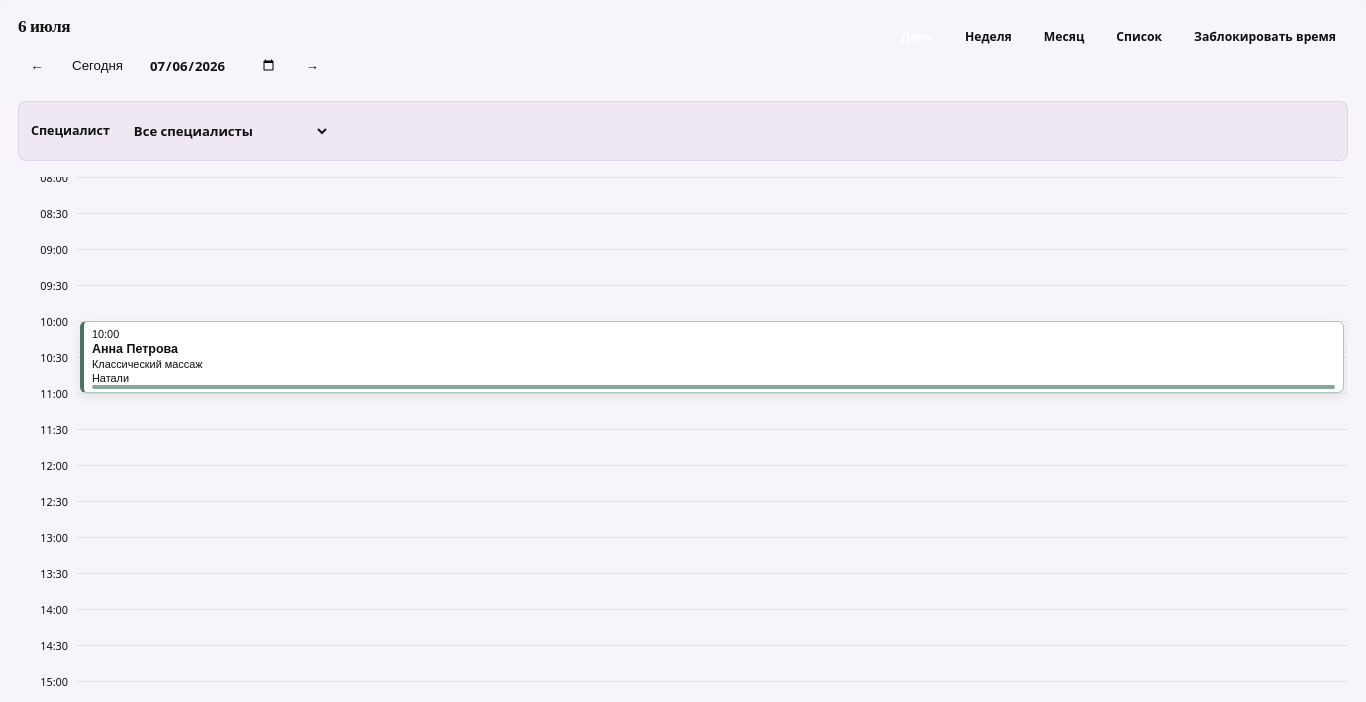
Test: CalendarWorkspace › keeps capacity totals based on all appointments while search filters the display
The image size is (1366, 702).
(page scrolled)
Expected: the text "Анна Петрова" is shown, [92,342,178,356]
Click the button "Месяц": (1064,36) [1032,18,1096,54]
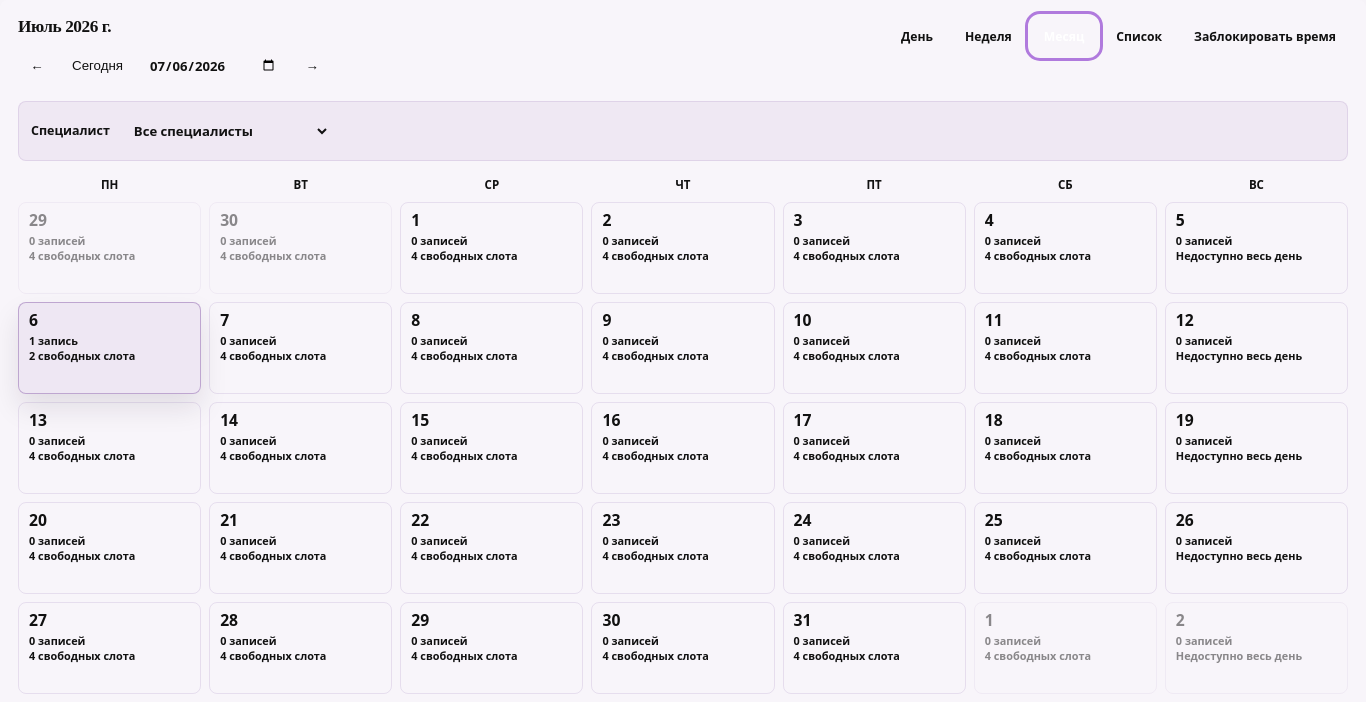
Now the button with aria-label "6 июля, 1 запись, 2 свободных слота" is shown, box [18,302,201,394]
